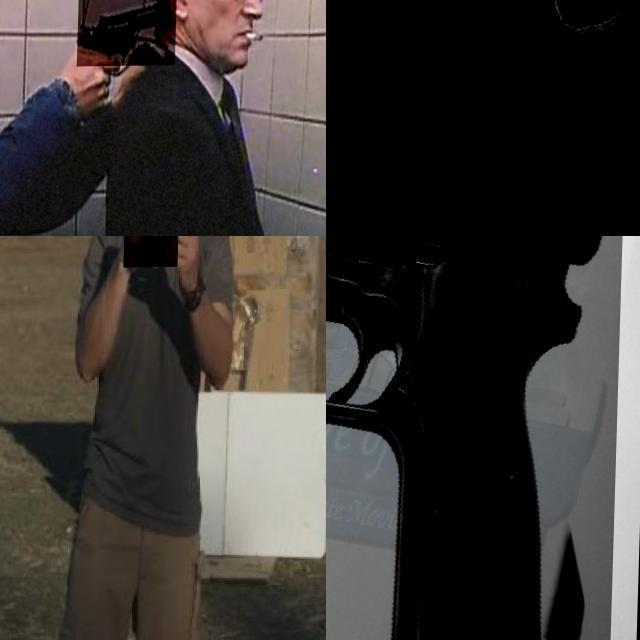-: (125, 236, 182, 308), (172, 236, 199, 335)
gun-knife-thesis - v11 Yolov5 augmented: (326, 236, 630, 640), (326, 0, 640, 236), (78, 0, 177, 67)
